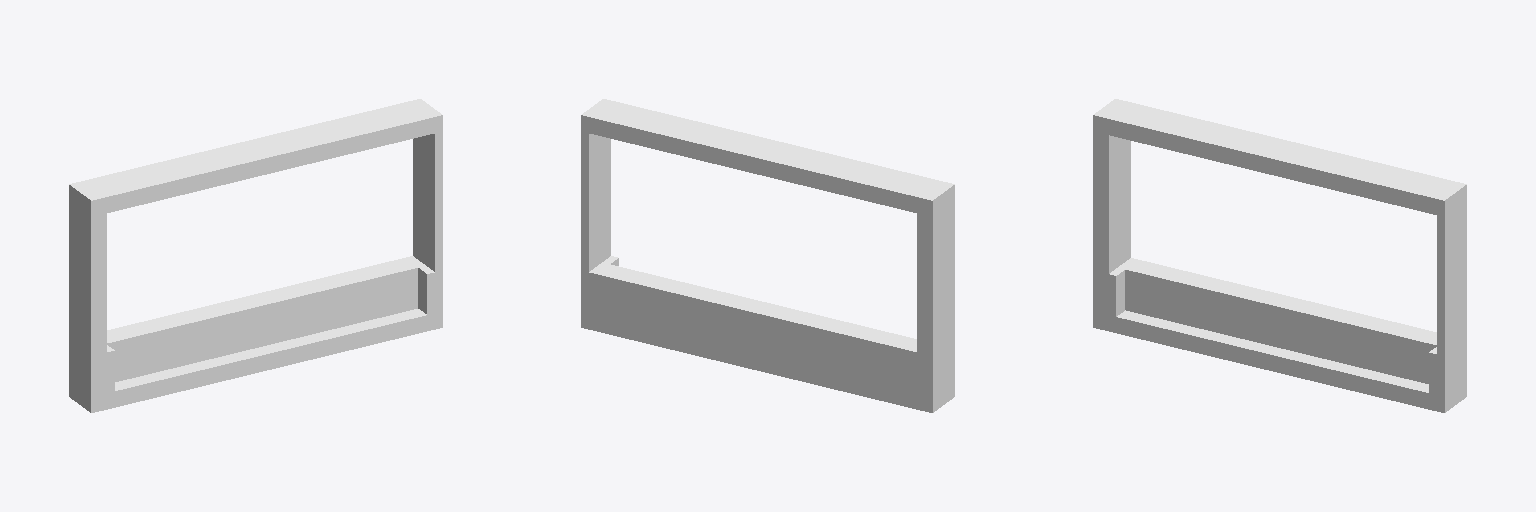
The model's file is TankFrame.obj.
3 renders of one model, left to right at view 1: azimuth 30°, elevation 25°; view 2: azimuth 150°, elevation 25°; view 3: azimuth 330°, elevation 25°, orthographic.
Size of the model in its own units: 45 by 26 by 5.